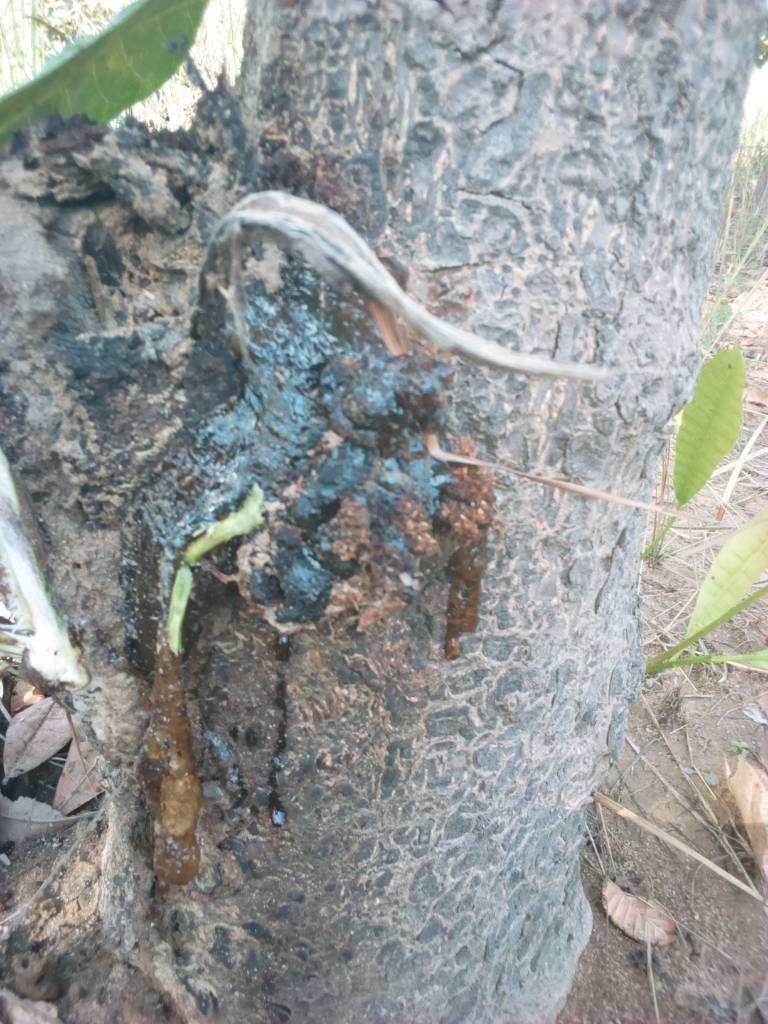Gommose: (155, 307, 477, 619), (118, 571, 224, 899)
